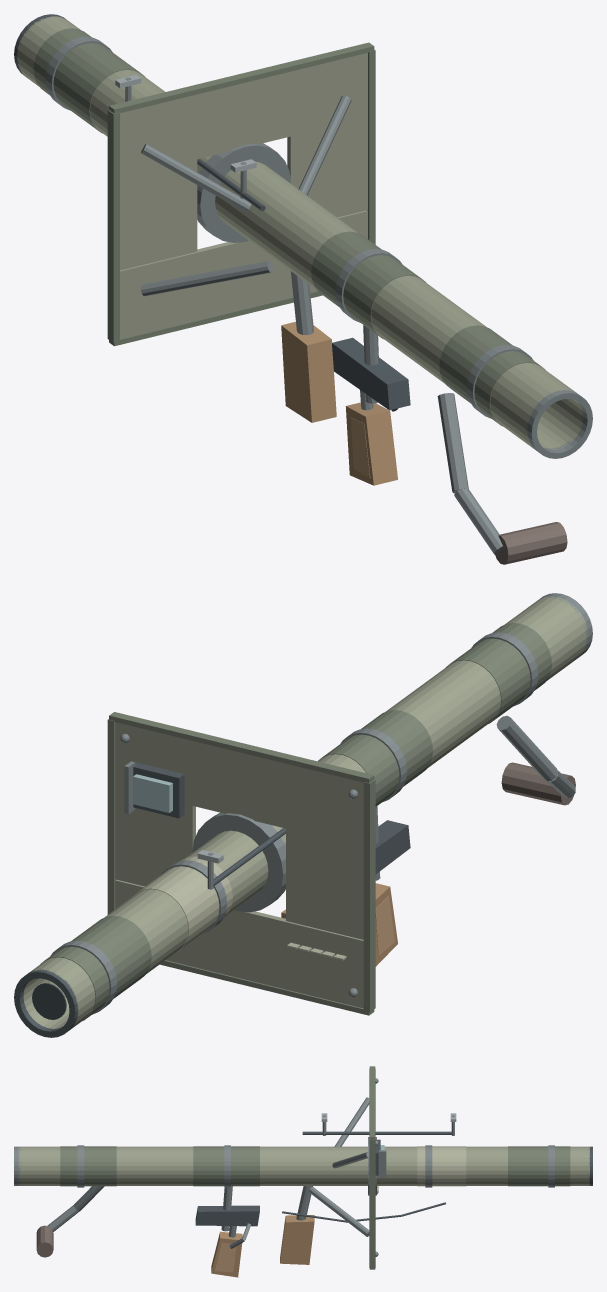
Rendered from Panzerschreck.glb.
3 renders of one model, top to bottom at view 1: azimuth 30°, elevation 25°; view 2: azimuth 150°, elevation 25°; view 3: azimuth 270°, elevation 25°, orthographic. The views are drawn at different scales.
Parts seen in each view (by area): view 1: OxideGreen, OliveDark, Gunmetal, WoodWalnut, DarkSteel, Leather, WoodLight; view 2: OxideGreen, OliveDark, Gunmetal, DarkSteel, OliveLight, Leather, Glass, SteelShadow, WoodLight, WoodWalnut; view 3: OxideGreen, OliveDark, Gunmetal, DarkSteel, WoodWalnut, OliveLight, Leather, WoodLight.
Boxes of the visible parts, x1=… form: OxideGreen: x1=16, y1=16, x2=583, y2=449; OliveDark: x1=33, y1=28, x2=545, y2=426; Gunmetal: x1=45, y1=36, x2=592, y2=554; WoodWalnut: x1=281, y1=321, x2=397, y2=485; DarkSteel: x1=14, y1=14, x2=410, y2=411; Leather: x1=495, y1=522, x2=567, y2=564; WoodLight: x1=350, y1=417, x2=370, y2=478; OxideGreen: x1=23, y1=596, x2=588, y2=1030; OliveDark: x1=40, y1=623, x2=551, y2=1020; Gunmetal: x1=50, y1=593, x2=592, y2=1014; DarkSteel: x1=14, y1=762, x2=410, y2=1037; OliveLight: x1=133, y1=856, x2=346, y2=960; Leather: x1=501, y1=762, x2=575, y2=805; Glass: x1=133, y1=774, x2=172, y2=812; SteelShadow: x1=32, y1=983, x2=66, y2=1019; WoodLight: x1=375, y1=895, x2=394, y2=955; WoodWalnut: x1=281, y1=883, x2=397, y2=966; OxideGreen: x1=18, y1=1146, x2=589, y2=1185; OliveDark: x1=60, y1=1066, x2=570, y2=1269; Gunmetal: x1=14, y1=1078, x2=554, y2=1256; DarkSteel: x1=195, y1=1131, x2=592, y2=1248; WoodWalnut: x1=211, y1=1215, x2=314, y2=1277; OliveLight: x1=377, y1=1146, x2=466, y2=1191; Leather: x1=36, y1=1225, x2=53, y2=1257; WoodLight: x1=215, y1=1242, x2=236, y2=1272.
Size of the model in its own units: 0.496 by 0.5575 by 1.7.
